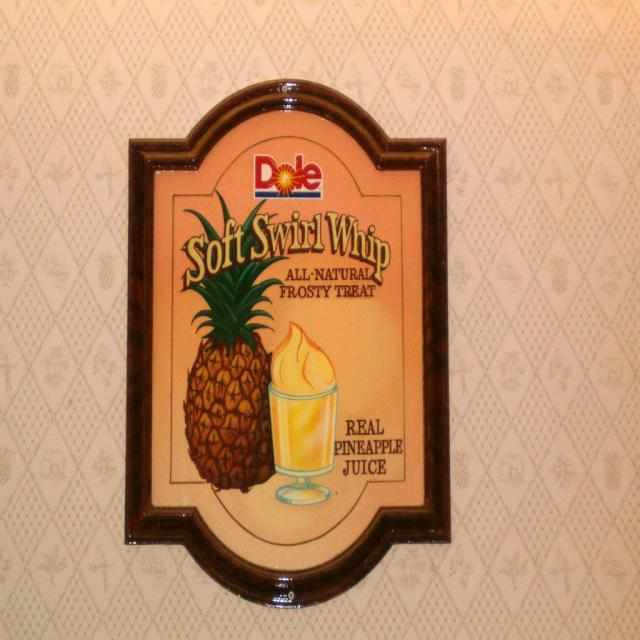Pineapple: (179, 187, 289, 491)
